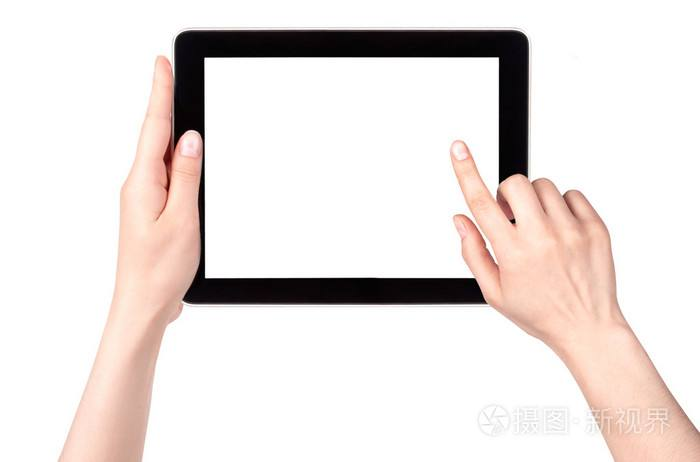pad: (118, 22, 624, 338)
